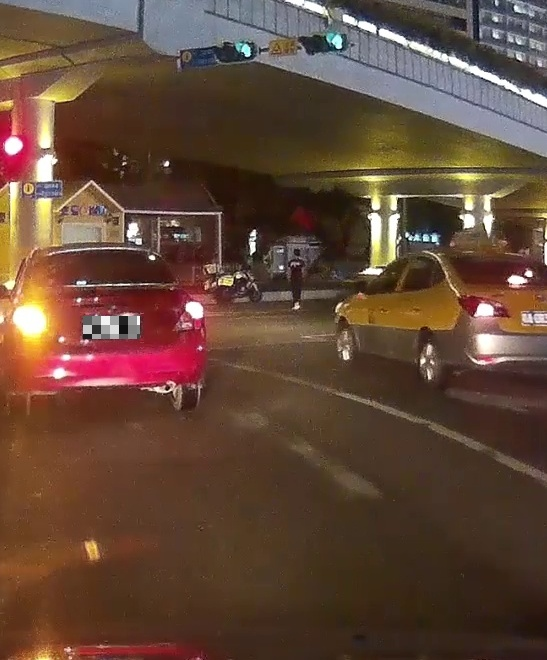L_light: (13, 307, 51, 336)
R_light: (170, 302, 203, 332)
T_light: (91, 250, 116, 255)
night-left: (8, 244, 206, 417)
plate_1: (83, 316, 140, 339)
